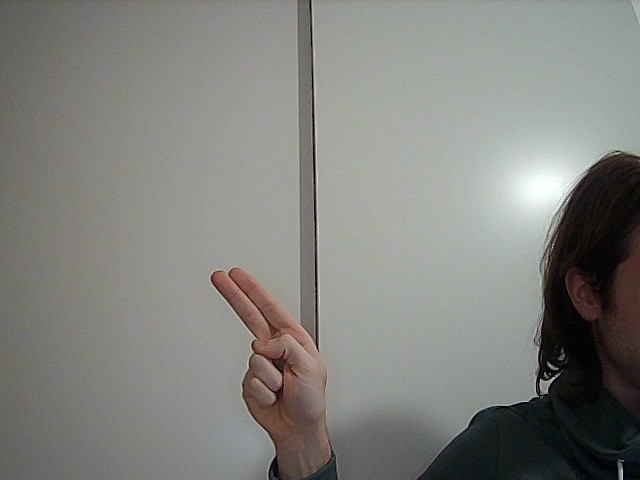h: (193, 253, 358, 430)
